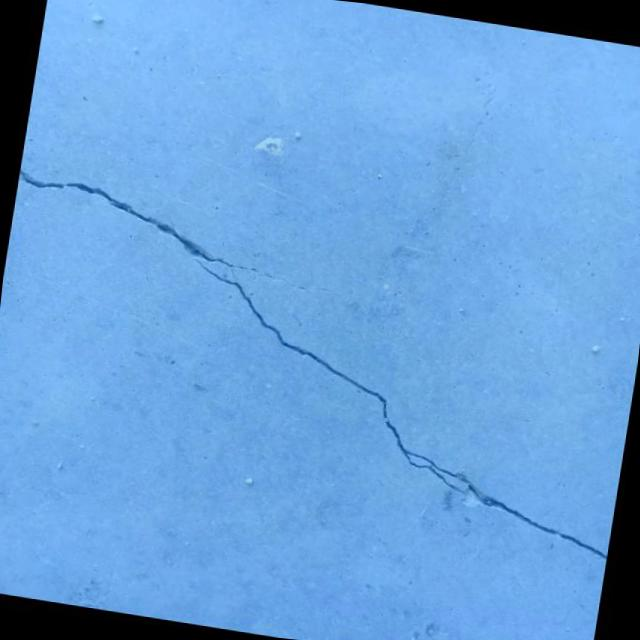crack: (0, 168, 640, 561)
